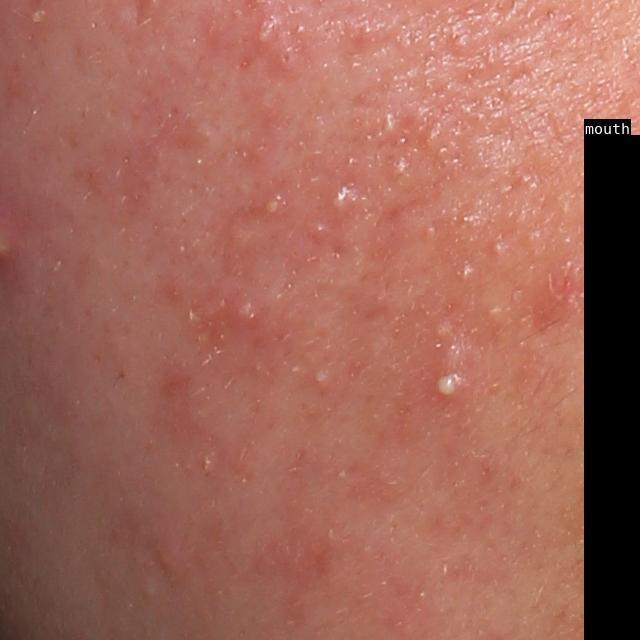comedo: (275, 43, 300, 73), (429, 319, 457, 343), (483, 301, 505, 331), (487, 238, 509, 264), (454, 259, 474, 287), (139, 581, 161, 600)
pustule: (434, 370, 459, 400), (252, 24, 276, 46), (262, 196, 282, 218)
